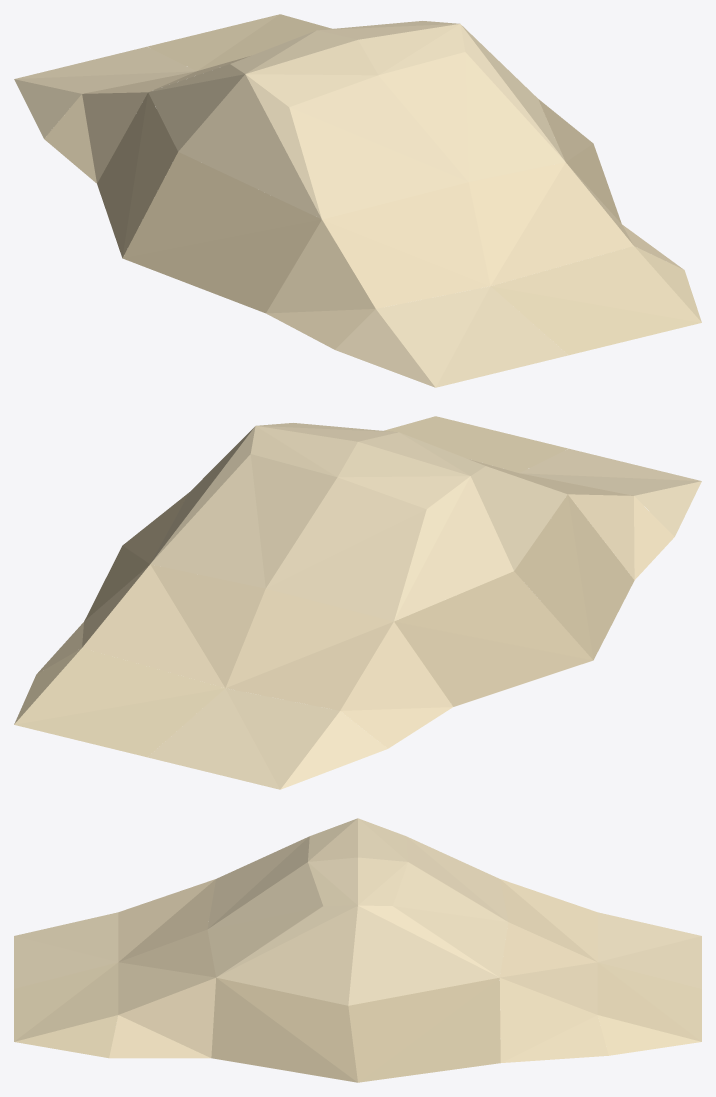
Rendered from drmpb.glb.
3 views of the same model, one above another, from view 1: azimuth 30°, elevation 25°; view 2: azimuth 150°, elevation 25°; view 3: azimuth 270°, elevation 25° (orthographic). The views are drawn at different scales.
Parts seen in each view (by area): view 1: drmpb; view 2: drmpb; view 3: drmpb.
Boxes of the visible parts, x1=… form: drmpb: x1=14, y1=14, x2=701, y2=387; drmpb: x1=14, y1=416, x2=701, y2=789; drmpb: x1=14, y1=818, x2=701, y2=1082.
Bounding box in the file's own units: 23 × 7.52 × 35.66.
